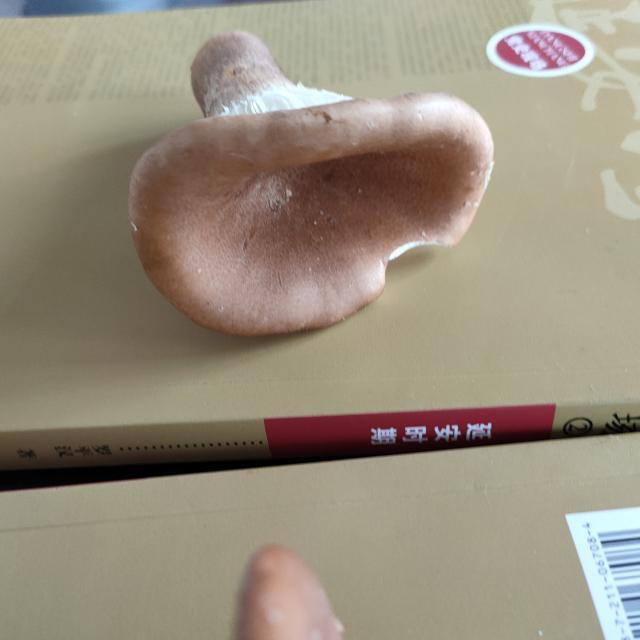Clitocybe maxima: (133, 33, 497, 339)
